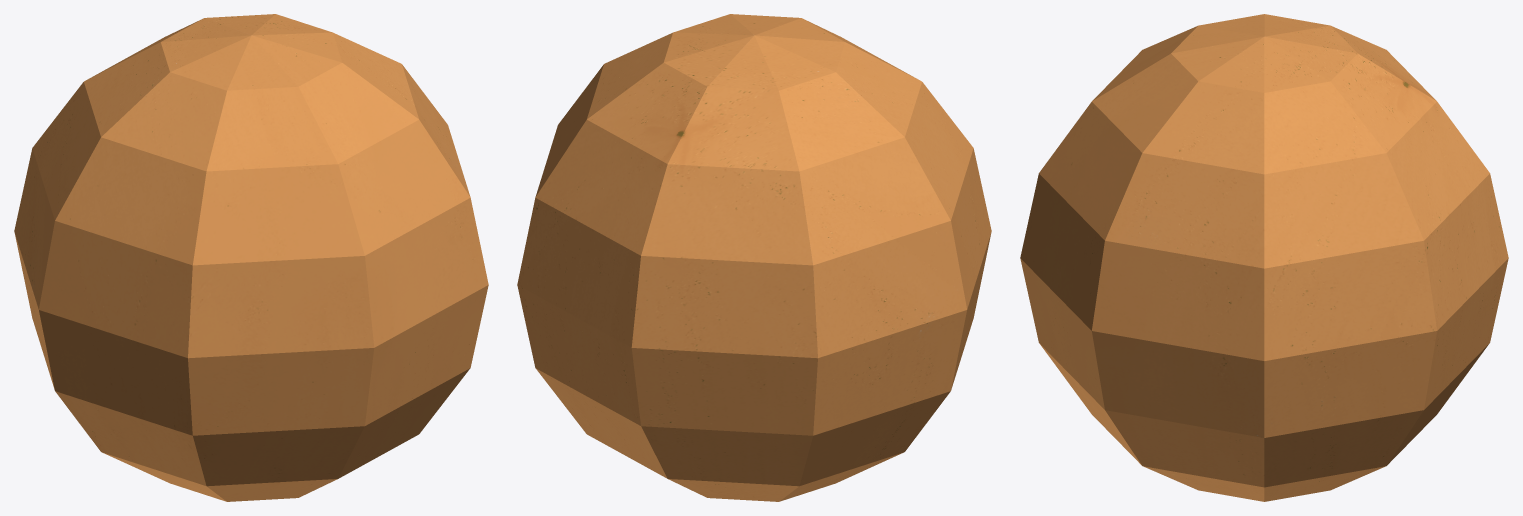
File: Orange.obj
The picture shows the model from 3 angles, left to right: view 1: azimuth 30°, elevation 25°; view 2: azimuth 150°, elevation 25°; view 3: azimuth 270°, elevation 25°; orthographic projection.
Parts seen in each view (by area): view 1: UV_Sphere_UV_Sphere; view 2: UV_Sphere_UV_Sphere; view 3: UV_Sphere_UV_Sphere.
Boxes of the visible parts, x1=… form: UV_Sphere_UV_Sphere: x1=14, y1=14, x2=488, y2=501; UV_Sphere_UV_Sphere: x1=517, y1=14, x2=991, y2=501; UV_Sphere_UV_Sphere: x1=1020, y1=14, x2=1508, y2=501.
Bounding box in the file's own units: 1 × 1 × 1.
Materials: 1 (1 with a texture image).
